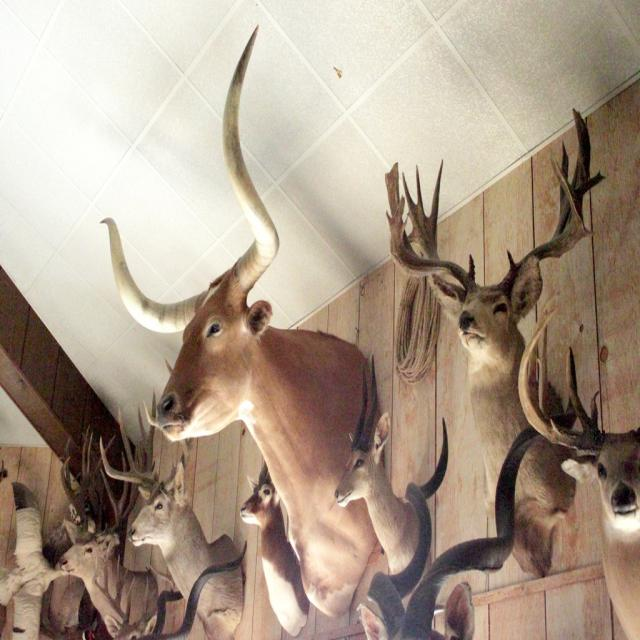Deer: (386, 108, 602, 572), (518, 311, 640, 640), (99, 420, 246, 638), (52, 422, 160, 640), (335, 354, 434, 586), (238, 452, 316, 636)
